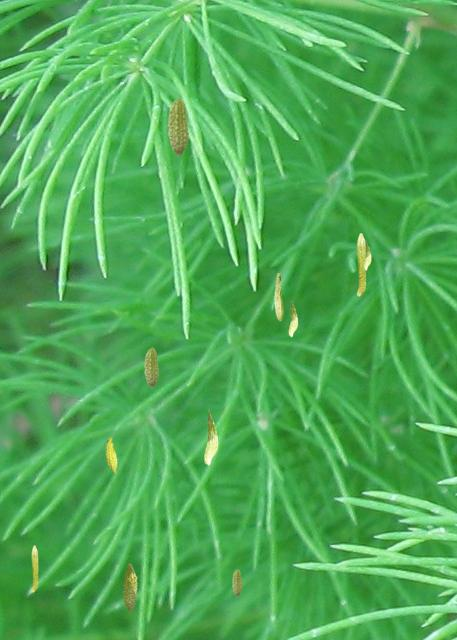ampalaya: (167, 97, 189, 157), (203, 409, 218, 466), (122, 563, 138, 612), (143, 347, 159, 388), (356, 233, 366, 296), (105, 433, 117, 475), (274, 272, 283, 321), (288, 299, 298, 337), (31, 545, 38, 592), (231, 568, 242, 597), (363, 240, 371, 270)
